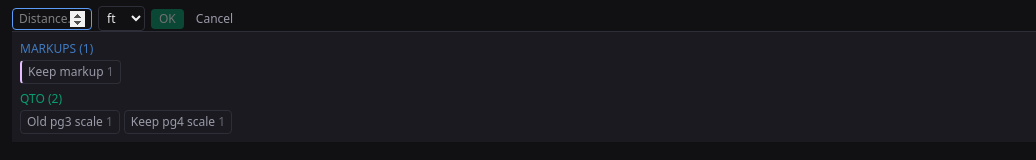
Test: CalibrationInput annotation replacement freeze › demo replaces only the current page's scale row locally, calibrates, and never fetches
The width and height of the screenshot is (1036, 160).
Type "25" into the number field with placeholder "Distance..." at (52, 18), box [12,8,92,30]
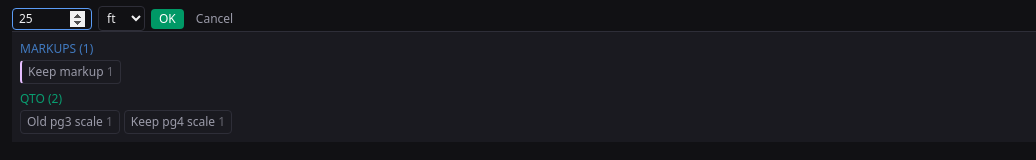
Select "m" in the dropdown at (122, 18), box [98,6,145,31]
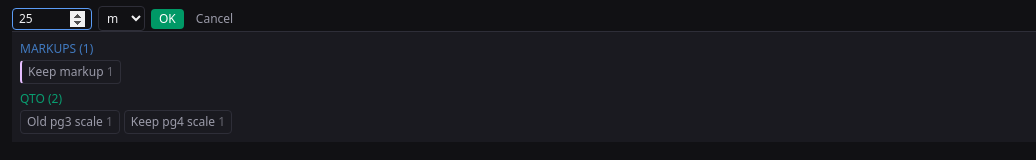
Click the button "OK" at (167, 18), box [151,8,184,28]
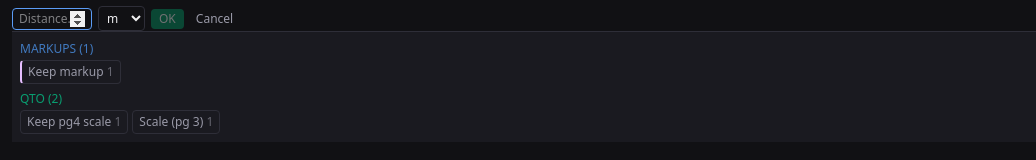
Now the button "Scale (pg 3) 1" is shown, box [132,110,220,134]
Now the button "Old pg3 scale 1" is gone
Now the number field with placeholder "Distance..." is not empty, box [12,8,92,30]
